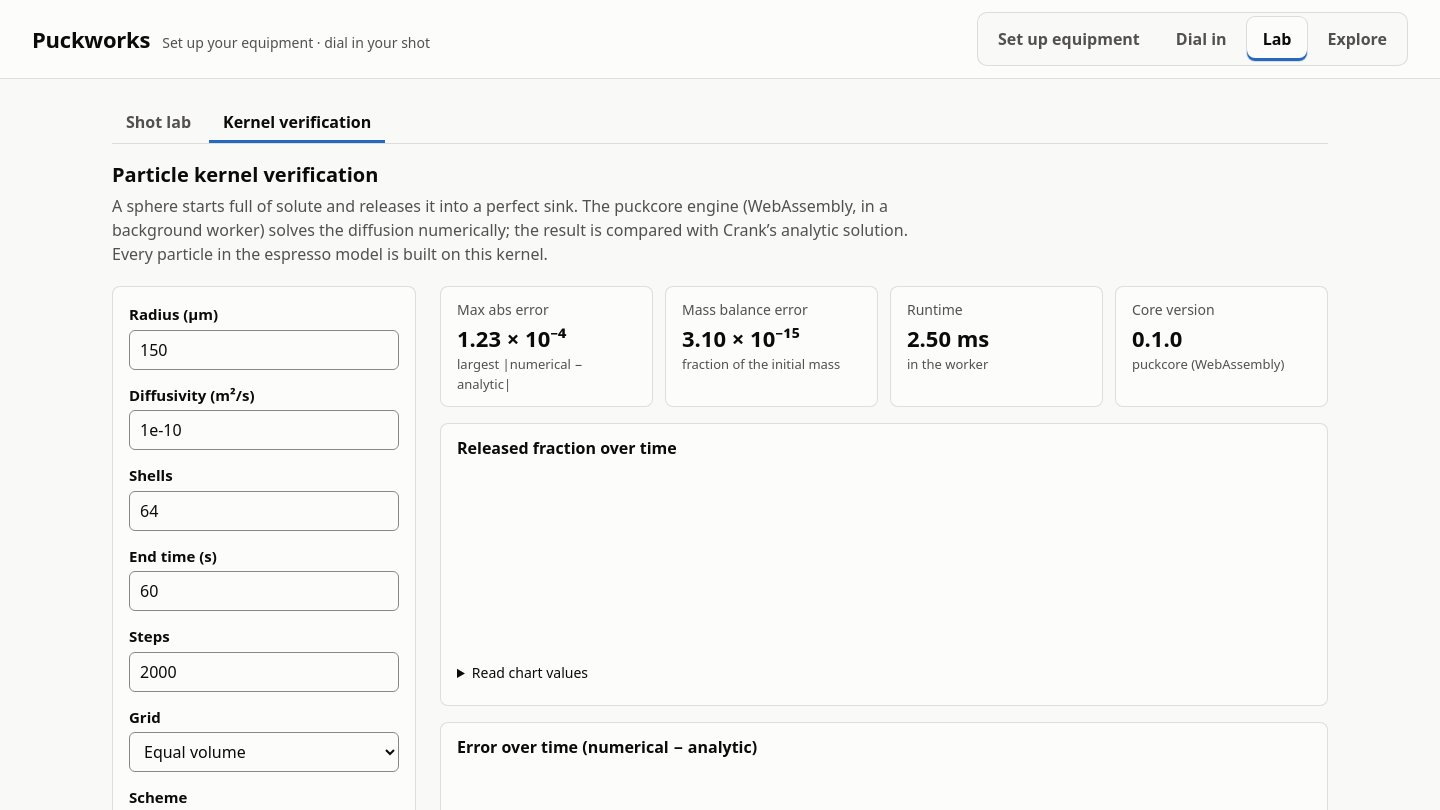
it: App › flags invalid input without announcing it, and never runs it
The width and height of the screenshot is (1440, 810).
Replace the text in the field labelled "Shells" with "1.5": coordinates (264, 510) [129, 490, 399, 530]
Wait 1000 ms
(page scrolled)
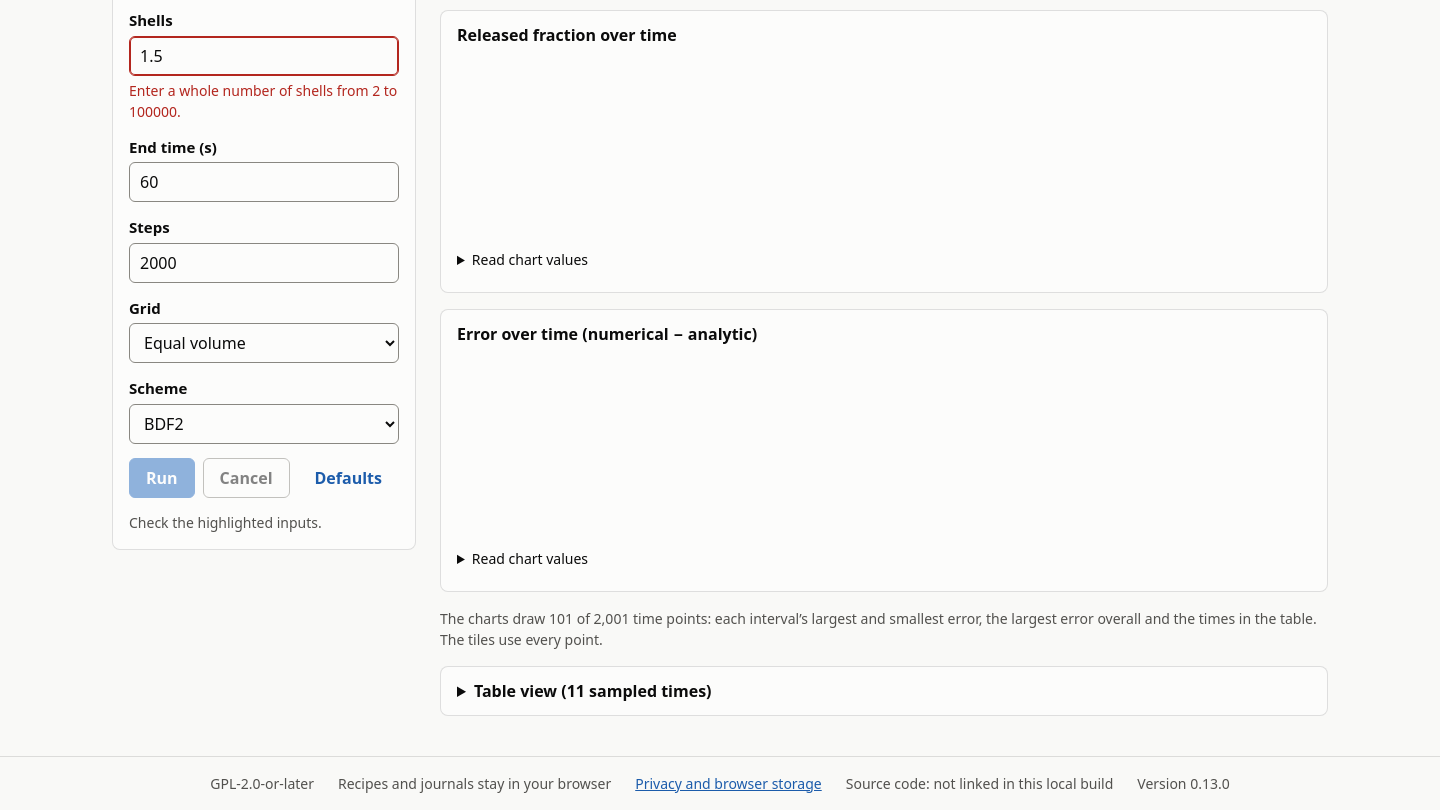
Now the button "Run" is disabled, box [129, 458, 195, 498]
Now the text with id "sphere-status" reads "Check the highlighted inputs.", box [129, 512, 322, 532]
